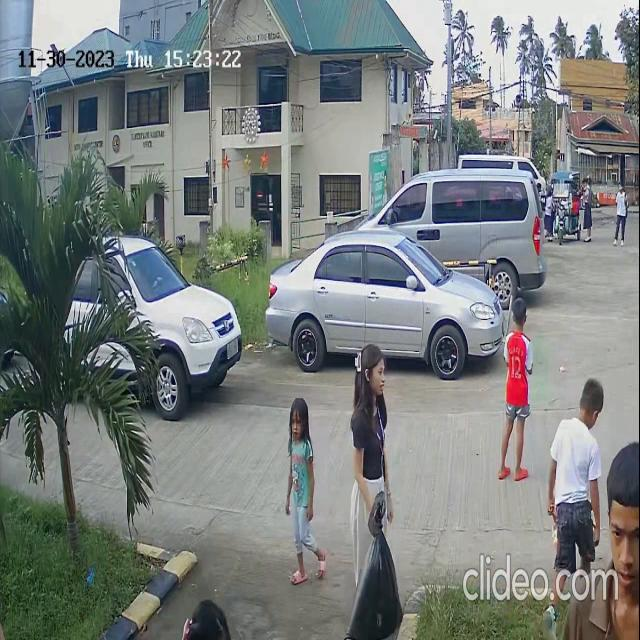garbage: (342, 493, 414, 640)
person: (281, 394, 330, 590), (550, 363, 607, 524), (503, 297, 531, 398), (353, 342, 389, 399), (611, 176, 631, 247)
